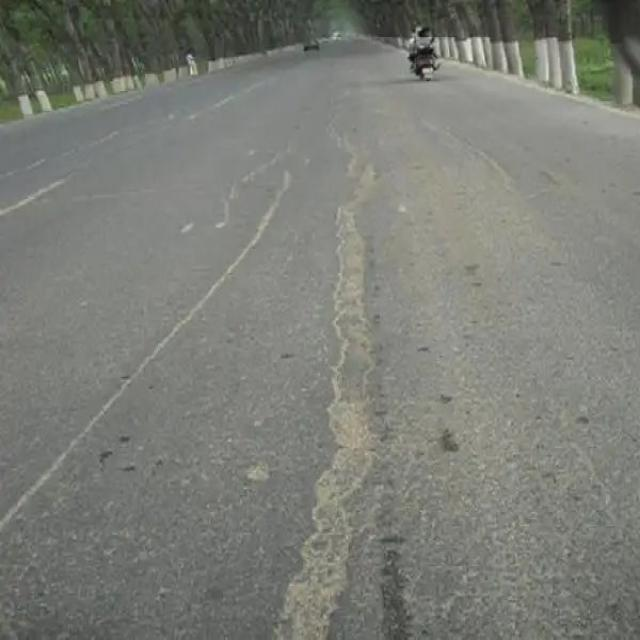Pothole: (301, 102, 408, 638)
